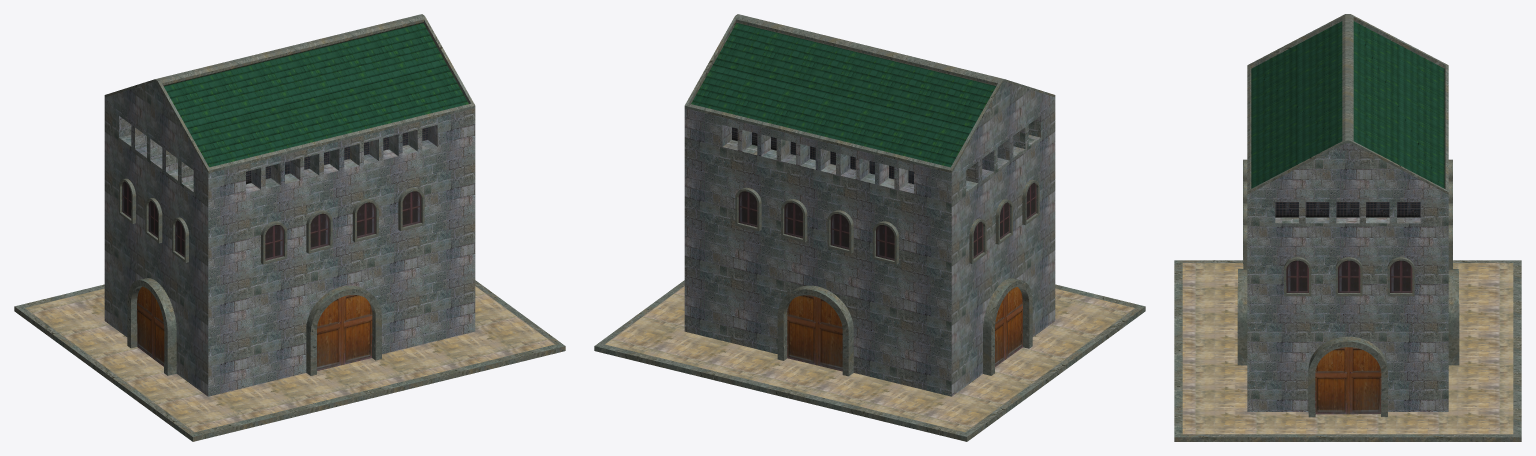
Rendered from objBuilding.obj.
3 renders of one model, left to right at view 1: azimuth 30°, elevation 25°; view 2: azimuth 150°, elevation 25°; view 3: azimuth 270°, elevation 25°, orthographic. The views are drawn at different scales.
Parts seen in each view (by area): view 1: structure2 house3, house3 gates pCube1278, house3 pCube1276 gates, house3 wins pCube1289, house3 wins pCube1290, house3 wins pCube1288, house3 wins pCube1287, house3 wins pCube1292, house3 wins pCube1291, house3 wins pCube1293; view 2: structure2 house3, house3 gates pCube1279, house3 pCube1276 gates, house3 wins pCube1284, house3 wins pCube1285, house3 wins pCube1286, house3 wins pCube1283, house3 wins pCube1291, house3 wins pCube1292, house3 wins pCube1293; view 3: structure2 house3, house3 gates pCube1277, house3 gates pCube1279, house3 pCube1282 wins, house3 wins pCube1280, house3 wins pCube1281, house3 gates pCube1278.
Part boxes in pixels (x1,y1,x2,y2): structure2 house3: (14, 14, 565, 441); house3 gates pCube1278: (306, 285, 381, 375); house3 pCube1276 gates: (127, 278, 176, 375); house3 wins pCube1289: (306, 210, 332, 253); house3 wins pCube1290: (261, 221, 287, 264); house3 wins pCube1288: (352, 199, 378, 242); house3 wins pCube1287: (398, 187, 424, 231); house3 wins pCube1292: (145, 198, 162, 243); house3 wins pCube1291: (172, 217, 188, 262); house3 wins pCube1293: (119, 178, 135, 223); structure2 house3: (594, 14, 1145, 441); house3 gates pCube1279: (777, 285, 853, 376); house3 pCube1276 gates: (983, 278, 1032, 375); house3 wins pCube1284: (735, 187, 761, 231); house3 wins pCube1285: (781, 199, 807, 242); house3 wins pCube1286: (827, 210, 853, 253); house3 wins pCube1283: (872, 221, 898, 264); house3 wins pCube1291: (1022, 179, 1039, 225); house3 wins pCube1292: (995, 199, 1012, 244); house3 wins pCube1293: (969, 218, 986, 263); structure2 house3: (1174, 14, 1521, 441); house3 gates pCube1277: (1308, 336, 1387, 417); house3 gates pCube1279: (1448, 269, 1459, 365); house3 pCube1282 wins: (1387, 257, 1414, 296); house3 wins pCube1280: (1335, 257, 1362, 296); house3 wins pCube1281: (1284, 257, 1311, 296); house3 gates pCube1278: (1237, 269, 1247, 365).
Bounding box in the file's own units: 6.89 × 5.05 × 5.71.
